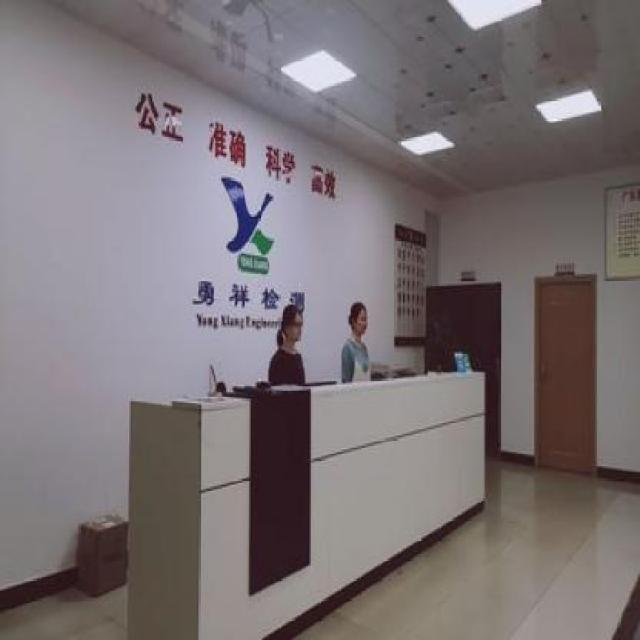frontdesk: (121, 358, 502, 640)
